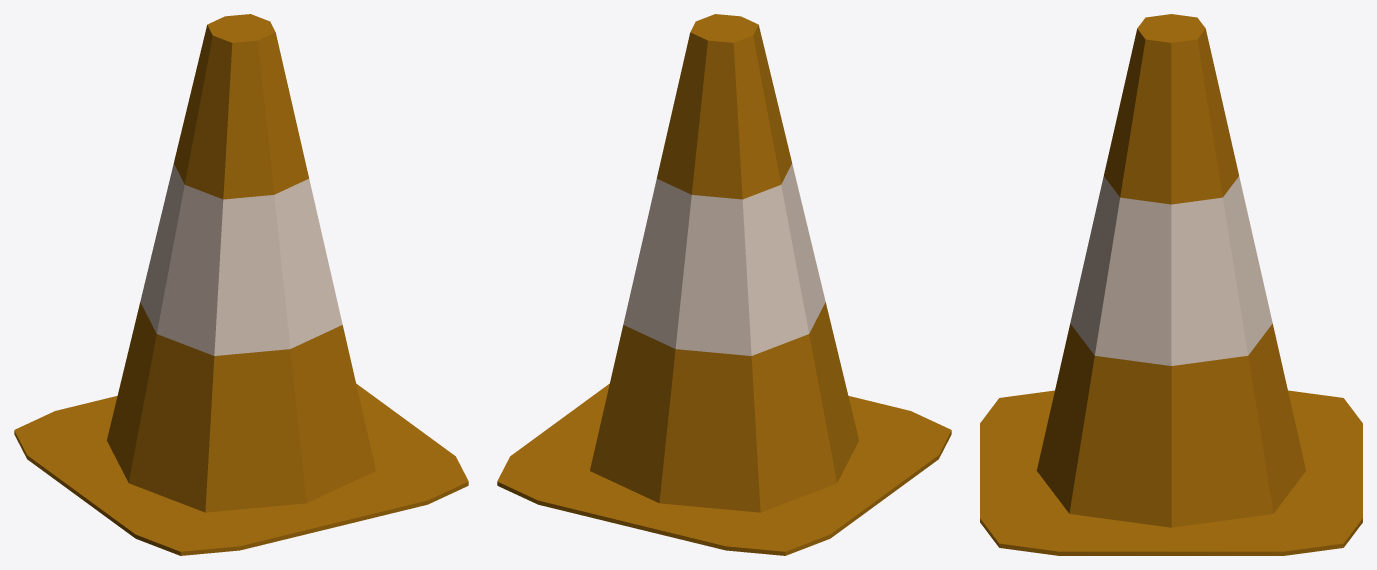
File: trafficCone.FBX
3 renders of one model, left to right at view 1: azimuth 30°, elevation 25°; view 2: azimuth 150°, elevation 25°; view 3: azimuth 270°, elevation 25°, orthographic. The views are drawn at different scales.
Parts seen in each view (by area): view 1: Box001; view 2: Box001; view 3: Box001.
Boxes of the visible parts, x1,y1,x2,y2 form: Box001: (14,14,468,555); Box001: (497,14,951,555); Box001: (980,14,1362,555).
Size of the model in its own units: 6 by 6 by 7.72.
